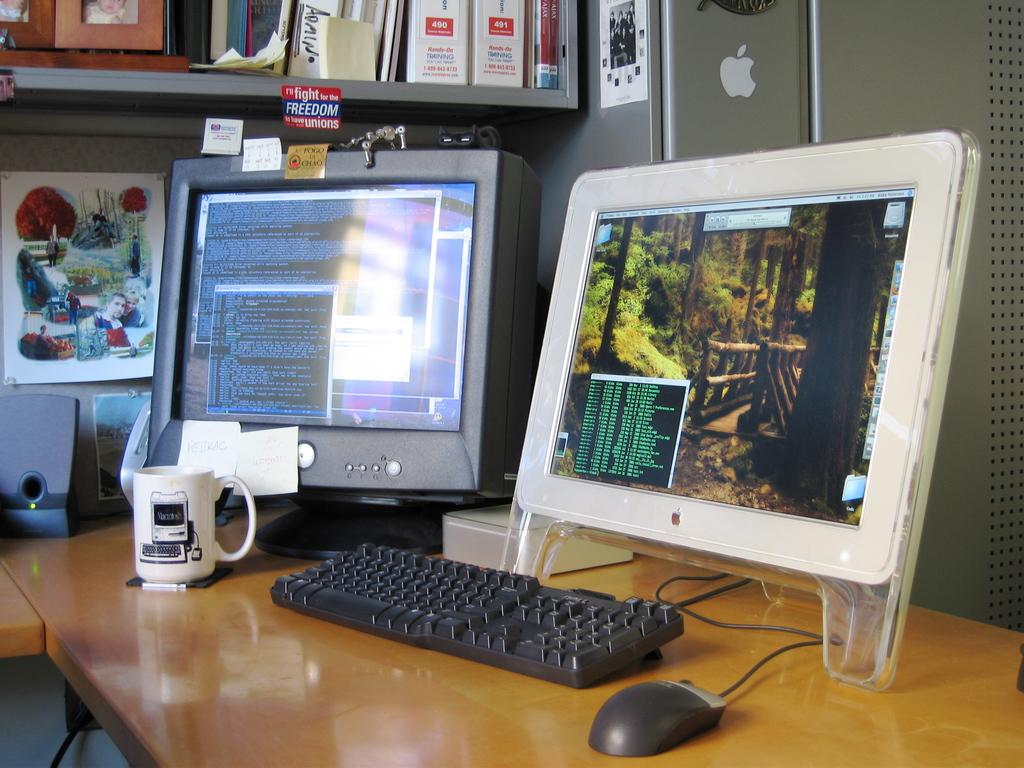Computer-mouse: (586, 677, 726, 759)
